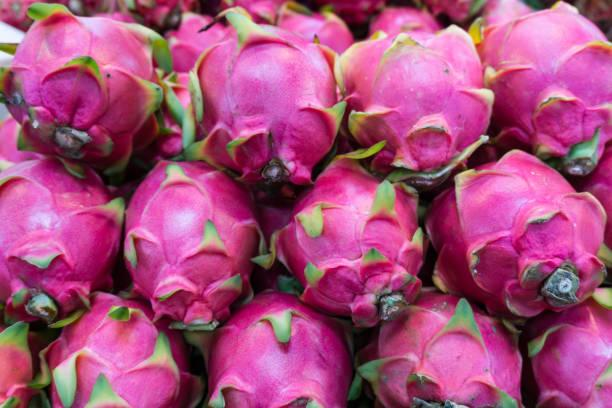dragon fruit: (269, 148, 434, 339), (193, 5, 353, 198), (434, 151, 612, 322), (0, 8, 186, 167), (124, 149, 262, 328), (342, 22, 490, 187), (485, 0, 612, 175), (0, 154, 122, 330), (32, 286, 197, 408), (375, 286, 536, 408), (212, 286, 364, 408), (535, 291, 612, 408)
